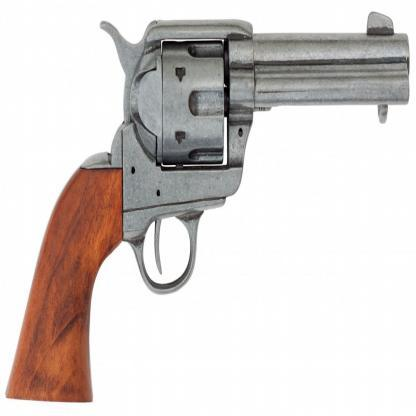gun: (6, 5, 412, 402)
